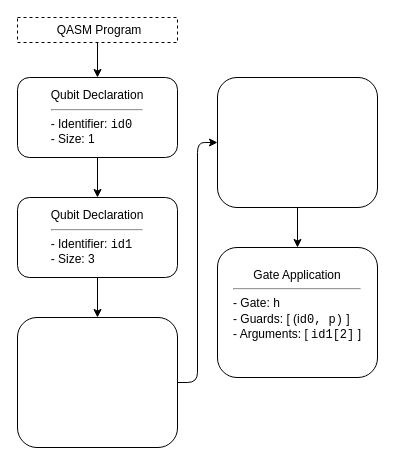
Image size: 395x465. Some labels were removed from this diagram. Here are the shapes that lost their labels. From the top down, the centre of each, then its label:
At (297,142): "Gate Application - Gate: h - Guards: [ ( i d0, p) ] - Arguments: [ id1[1] ]".
At (97,382): "Gate Application - Gate: h - Guards: [ ( i d0, p) ] - Arguments: [ id1[0] ]".
